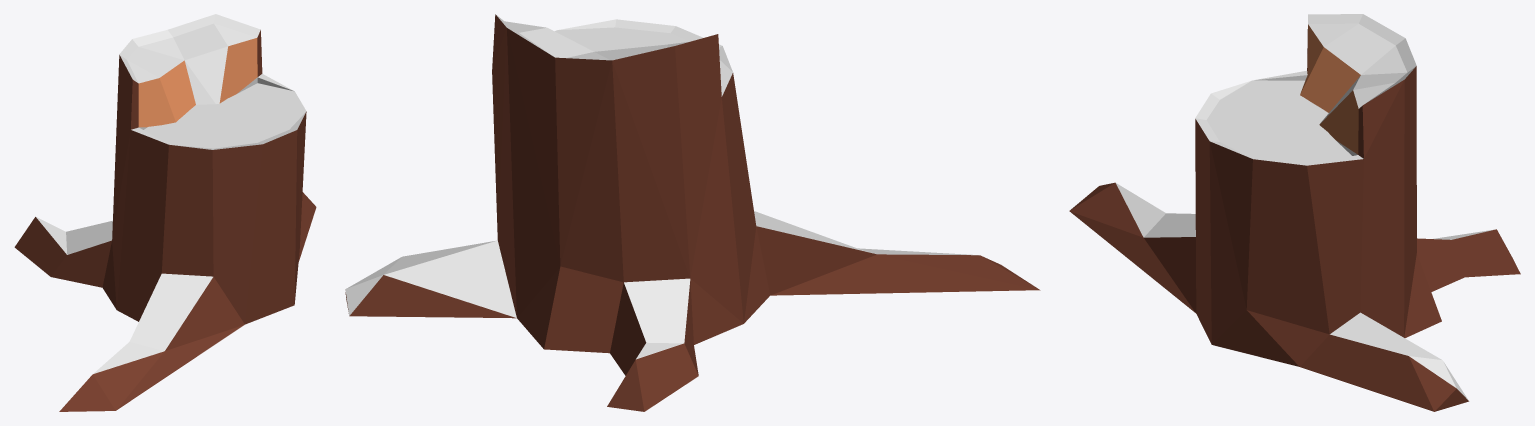
The model's file is pine_trunk_type_4_extra_LOD1.fbx.
The picture shows the model from 3 angles, left to right: view 1: azimuth 30°, elevation 25°; view 2: azimuth 150°, elevation 25°; view 3: azimuth 270°, elevation 25°; orthographic projection. The views are drawn at different scales.
Visible parts, largest first — view 1: Cylinder.003; view 2: Cylinder.003; view 3: Cylinder.003.
Part boxes in pixels (left/top/right/bottom): Cylinder.003: left=14, top=14, right=316, bottom=411; Cylinder.003: left=345, top=14, right=1040, bottom=411; Cylinder.003: left=1069, top=14, right=1520, bottom=411.
Size of the model in its own units: 480 by 266 by 402.
